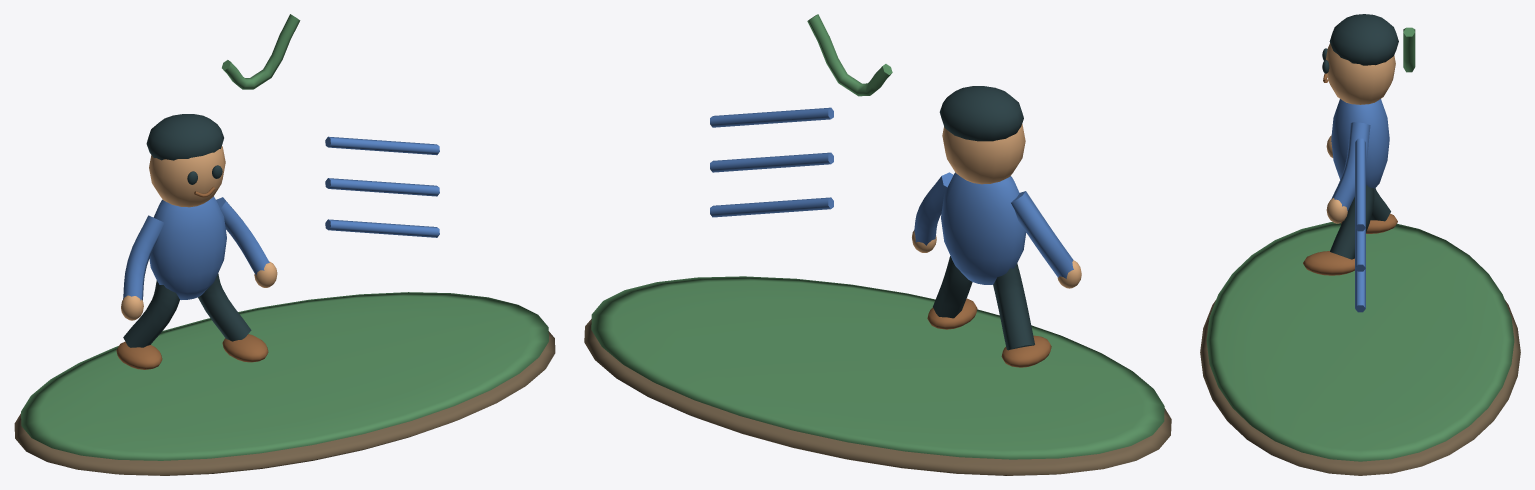
Rendered from complete-third-traveler-repairs-stripes.glb.
3 renders of one model, left to right at view 1: azimuth 30°, elevation 25°; view 2: azimuth 150°, elevation 25°; view 3: azimuth 270°, elevation 25°, orthographic. The views are drawn at different scales.
Visible parts, largest first — view 1: complete-third-traveler-repairs-stripes_surface_01, complete-third-traveler-repairs-stripes_surface_05, complete-third-traveler-repairs-stripes_surface_00, complete-third-traveler-repairs-stripes_surface_03, complete-third-traveler-repairs-stripes_surface_02, complete-third-traveler-repairs-stripes_surface_04; view 2: complete-third-traveler-repairs-stripes_surface_01, complete-third-traveler-repairs-stripes_surface_05, complete-third-traveler-repairs-stripes_surface_00, complete-third-traveler-repairs-stripes_surface_03, complete-third-traveler-repairs-stripes_surface_02, complete-third-traveler-repairs-stripes_surface_04; view 3: complete-third-traveler-repairs-stripes_surface_01, complete-third-traveler-repairs-stripes_surface_00, complete-third-traveler-repairs-stripes_surface_05, complete-third-traveler-repairs-stripes_surface_03, complete-third-traveler-repairs-stripes_surface_02, complete-third-traveler-repairs-stripes_surface_04.
Part boxes in pixels (left/top/right/bottom): complete-third-traveler-repairs-stripes_surface_01: left=21, top=14, right=548, bottom=460; complete-third-traveler-repairs-stripes_surface_05: left=123, top=136, right=439, bottom=300; complete-third-traveler-repairs-stripes_surface_00: left=14, top=331, right=555, bottom=475; complete-third-traveler-repairs-stripes_surface_03: left=123, top=114, right=251, bottom=347; complete-third-traveler-repairs-stripes_surface_02: left=121, top=146, right=277, bottom=320; complete-third-traveler-repairs-stripes_surface_04: left=116, top=187, right=268, bottom=369; complete-third-traveler-repairs-stripes_surface_01: left=591, top=14, right=1164, bottom=459; complete-third-traveler-repairs-stripes_surface_05: left=710, top=107, right=1073, bottom=284; complete-third-traveler-repairs-stripes_surface_00: left=584, top=319, right=1171, bottom=475; complete-third-traveler-repairs-stripes_surface_03: left=933, top=86, right=1034, bottom=350; complete-third-traveler-repairs-stripes_surface_02: left=912, top=124, right=1081, bottom=288; complete-third-traveler-repairs-stripes_surface_04: left=927, top=298, right=1051, bottom=367; complete-third-traveler-repairs-stripes_surface_01: left=1206, top=27, right=1514, bottom=461; complete-third-traveler-repairs-stripes_surface_00: left=1200, top=300, right=1520, bottom=475; complete-third-traveler-repairs-stripes_surface_05: left=1331, top=99, right=1389, bottom=312; complete-third-traveler-repairs-stripes_surface_03: left=1322, top=14, right=1398, bottom=259; complete-third-traveler-repairs-stripes_surface_02: left=1326, top=43, right=1395, bottom=223; complete-third-traveler-repairs-stripes_surface_04: left=1303, top=73, right=1397, bottom=275.
Bounding box in the file's own units: 4.56 × 3.05 × 2.5.
